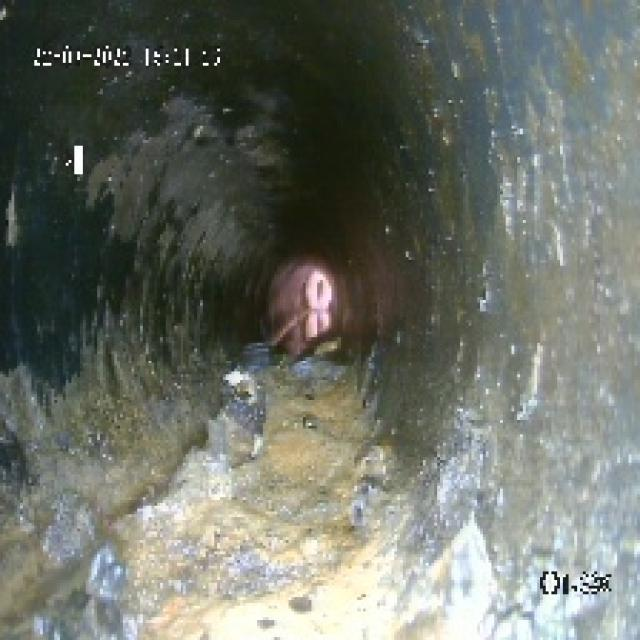sluge accumulation: (117, 366, 497, 634)
